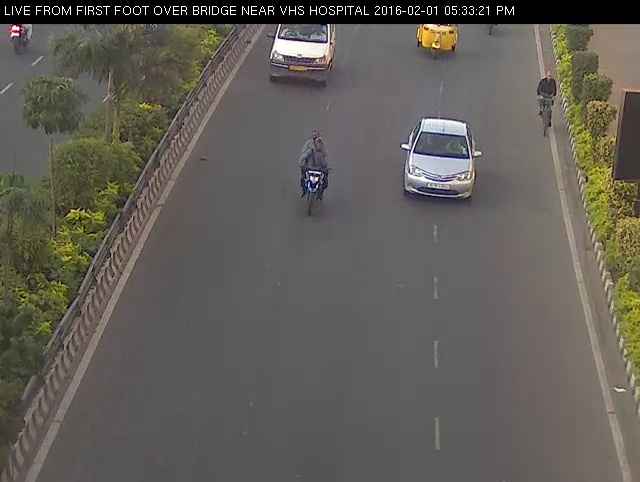Auto: (411, 17, 463, 65)
Car: (390, 107, 491, 214), (262, 15, 342, 100)
Person: (285, 122, 341, 230)
